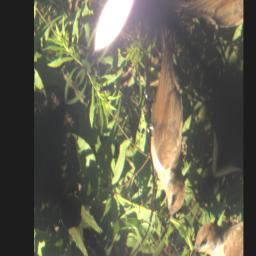Cuckoo: (98, 13, 233, 229)
